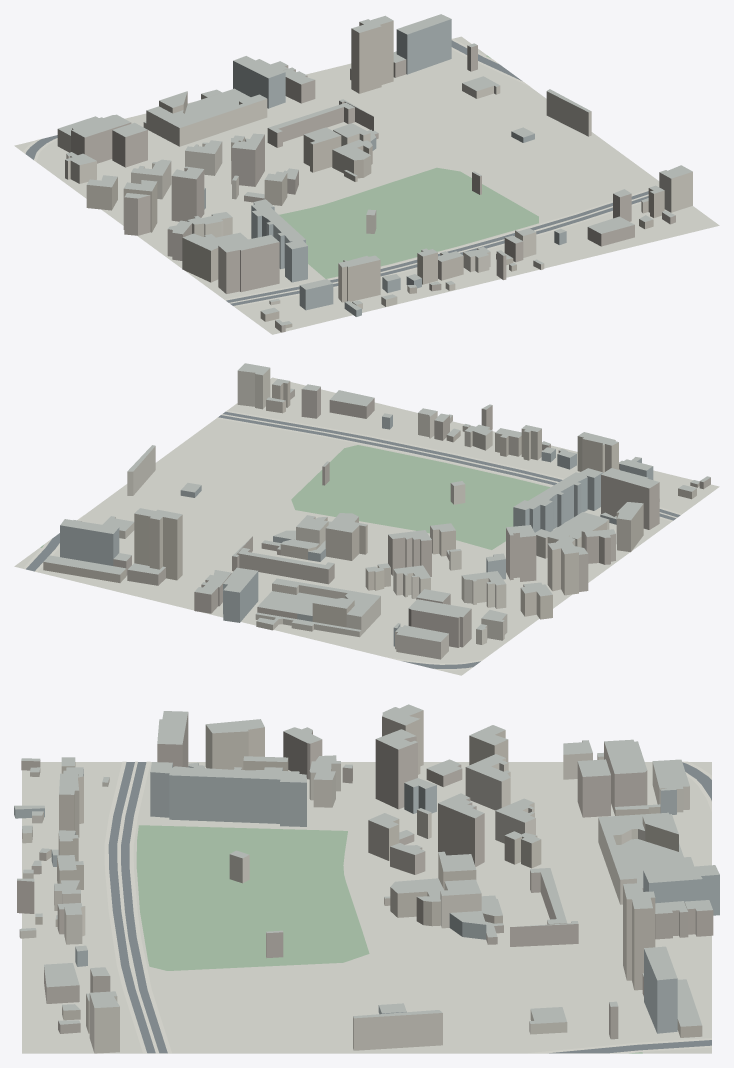
The picture shows the model from 3 angles, top to bottom: view 1: azimuth 30°, elevation 25°; view 2: azimuth 150°, elevation 25°; view 3: azimuth 270°, elevation 25°; orthographic projection. The views are drawn at different scales.
Parts seen in each view (by area): view 1: city; view 2: city; view 3: city.
Boxes of the visible parts, left/top/right/bottom form: city: left=14, top=14, right=719, bottom=334; city: left=14, top=363, right=719, bottom=675; city: left=14, top=704, right=719, bottom=1053.
Size of the model in its own units: 511 by 65 by 512.
